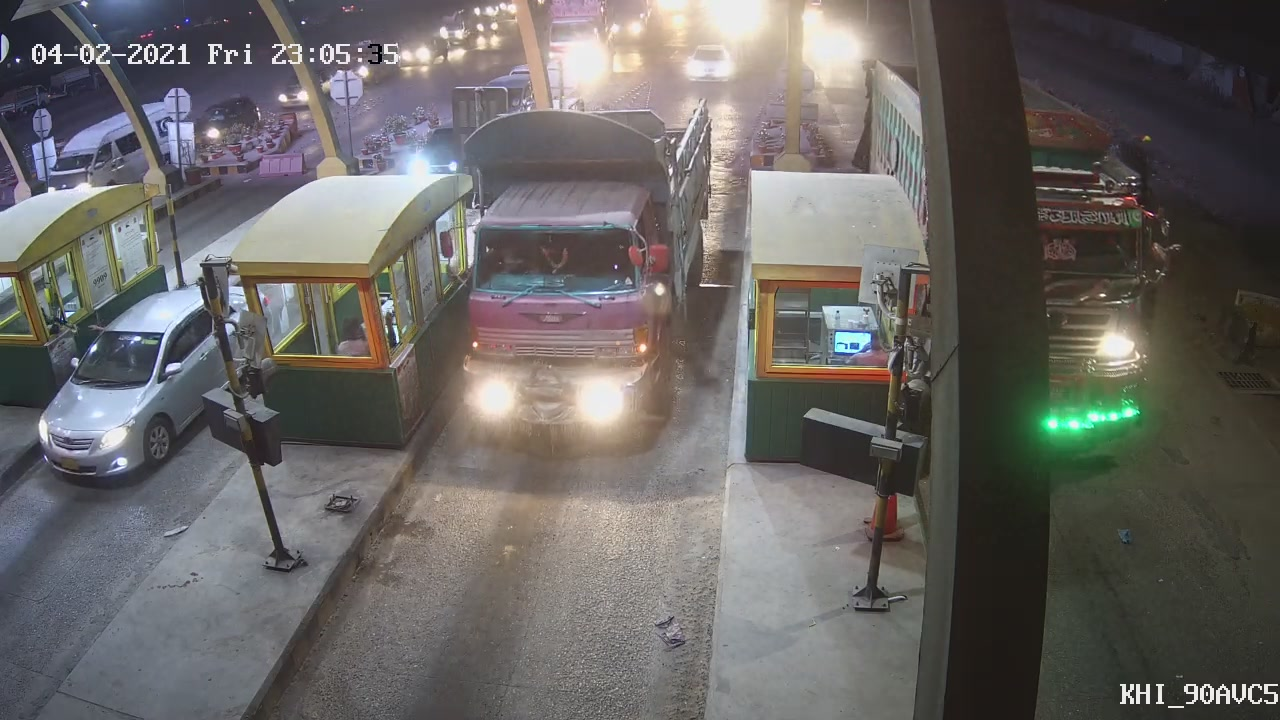F5: (459, 91, 716, 446)
